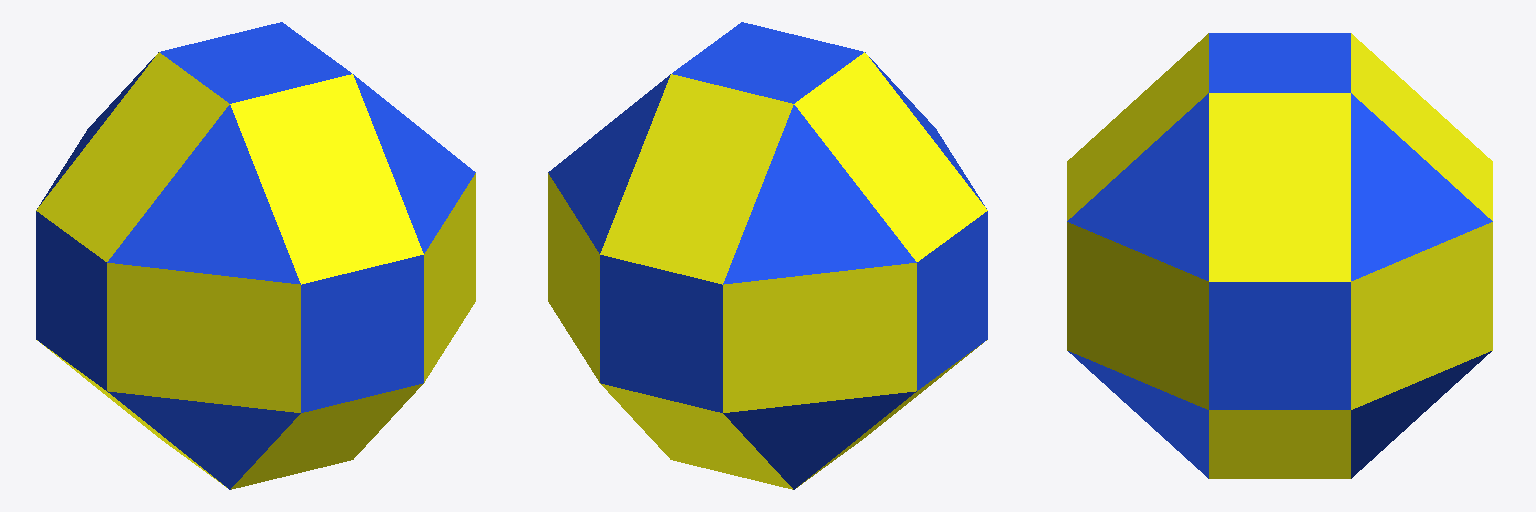
Rendered from bullet3.obj.
3 renders of one model, left to right at view 1: azimuth 30°, elevation 25°; view 2: azimuth 150°, elevation 25°; view 3: azimuth 270°, elevation 25°, orthographic.
Parts seen in each view (by area): view 1: octotoad8; view 2: octotoad8; view 3: octotoad8.
Part boxes in pixels (left/top/right/bottom): octotoad8: left=36, top=22, right=475, bottom=489; octotoad8: left=548, top=22, right=987, bottom=489; octotoad8: left=1067, top=33, right=1492, bottom=478.
Size of the model in its own units: 0.834 by 0.834 by 0.834.